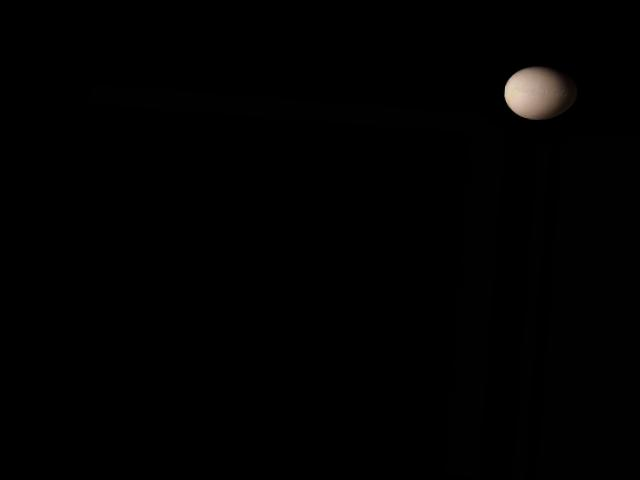egg: (501, 63, 578, 122)
